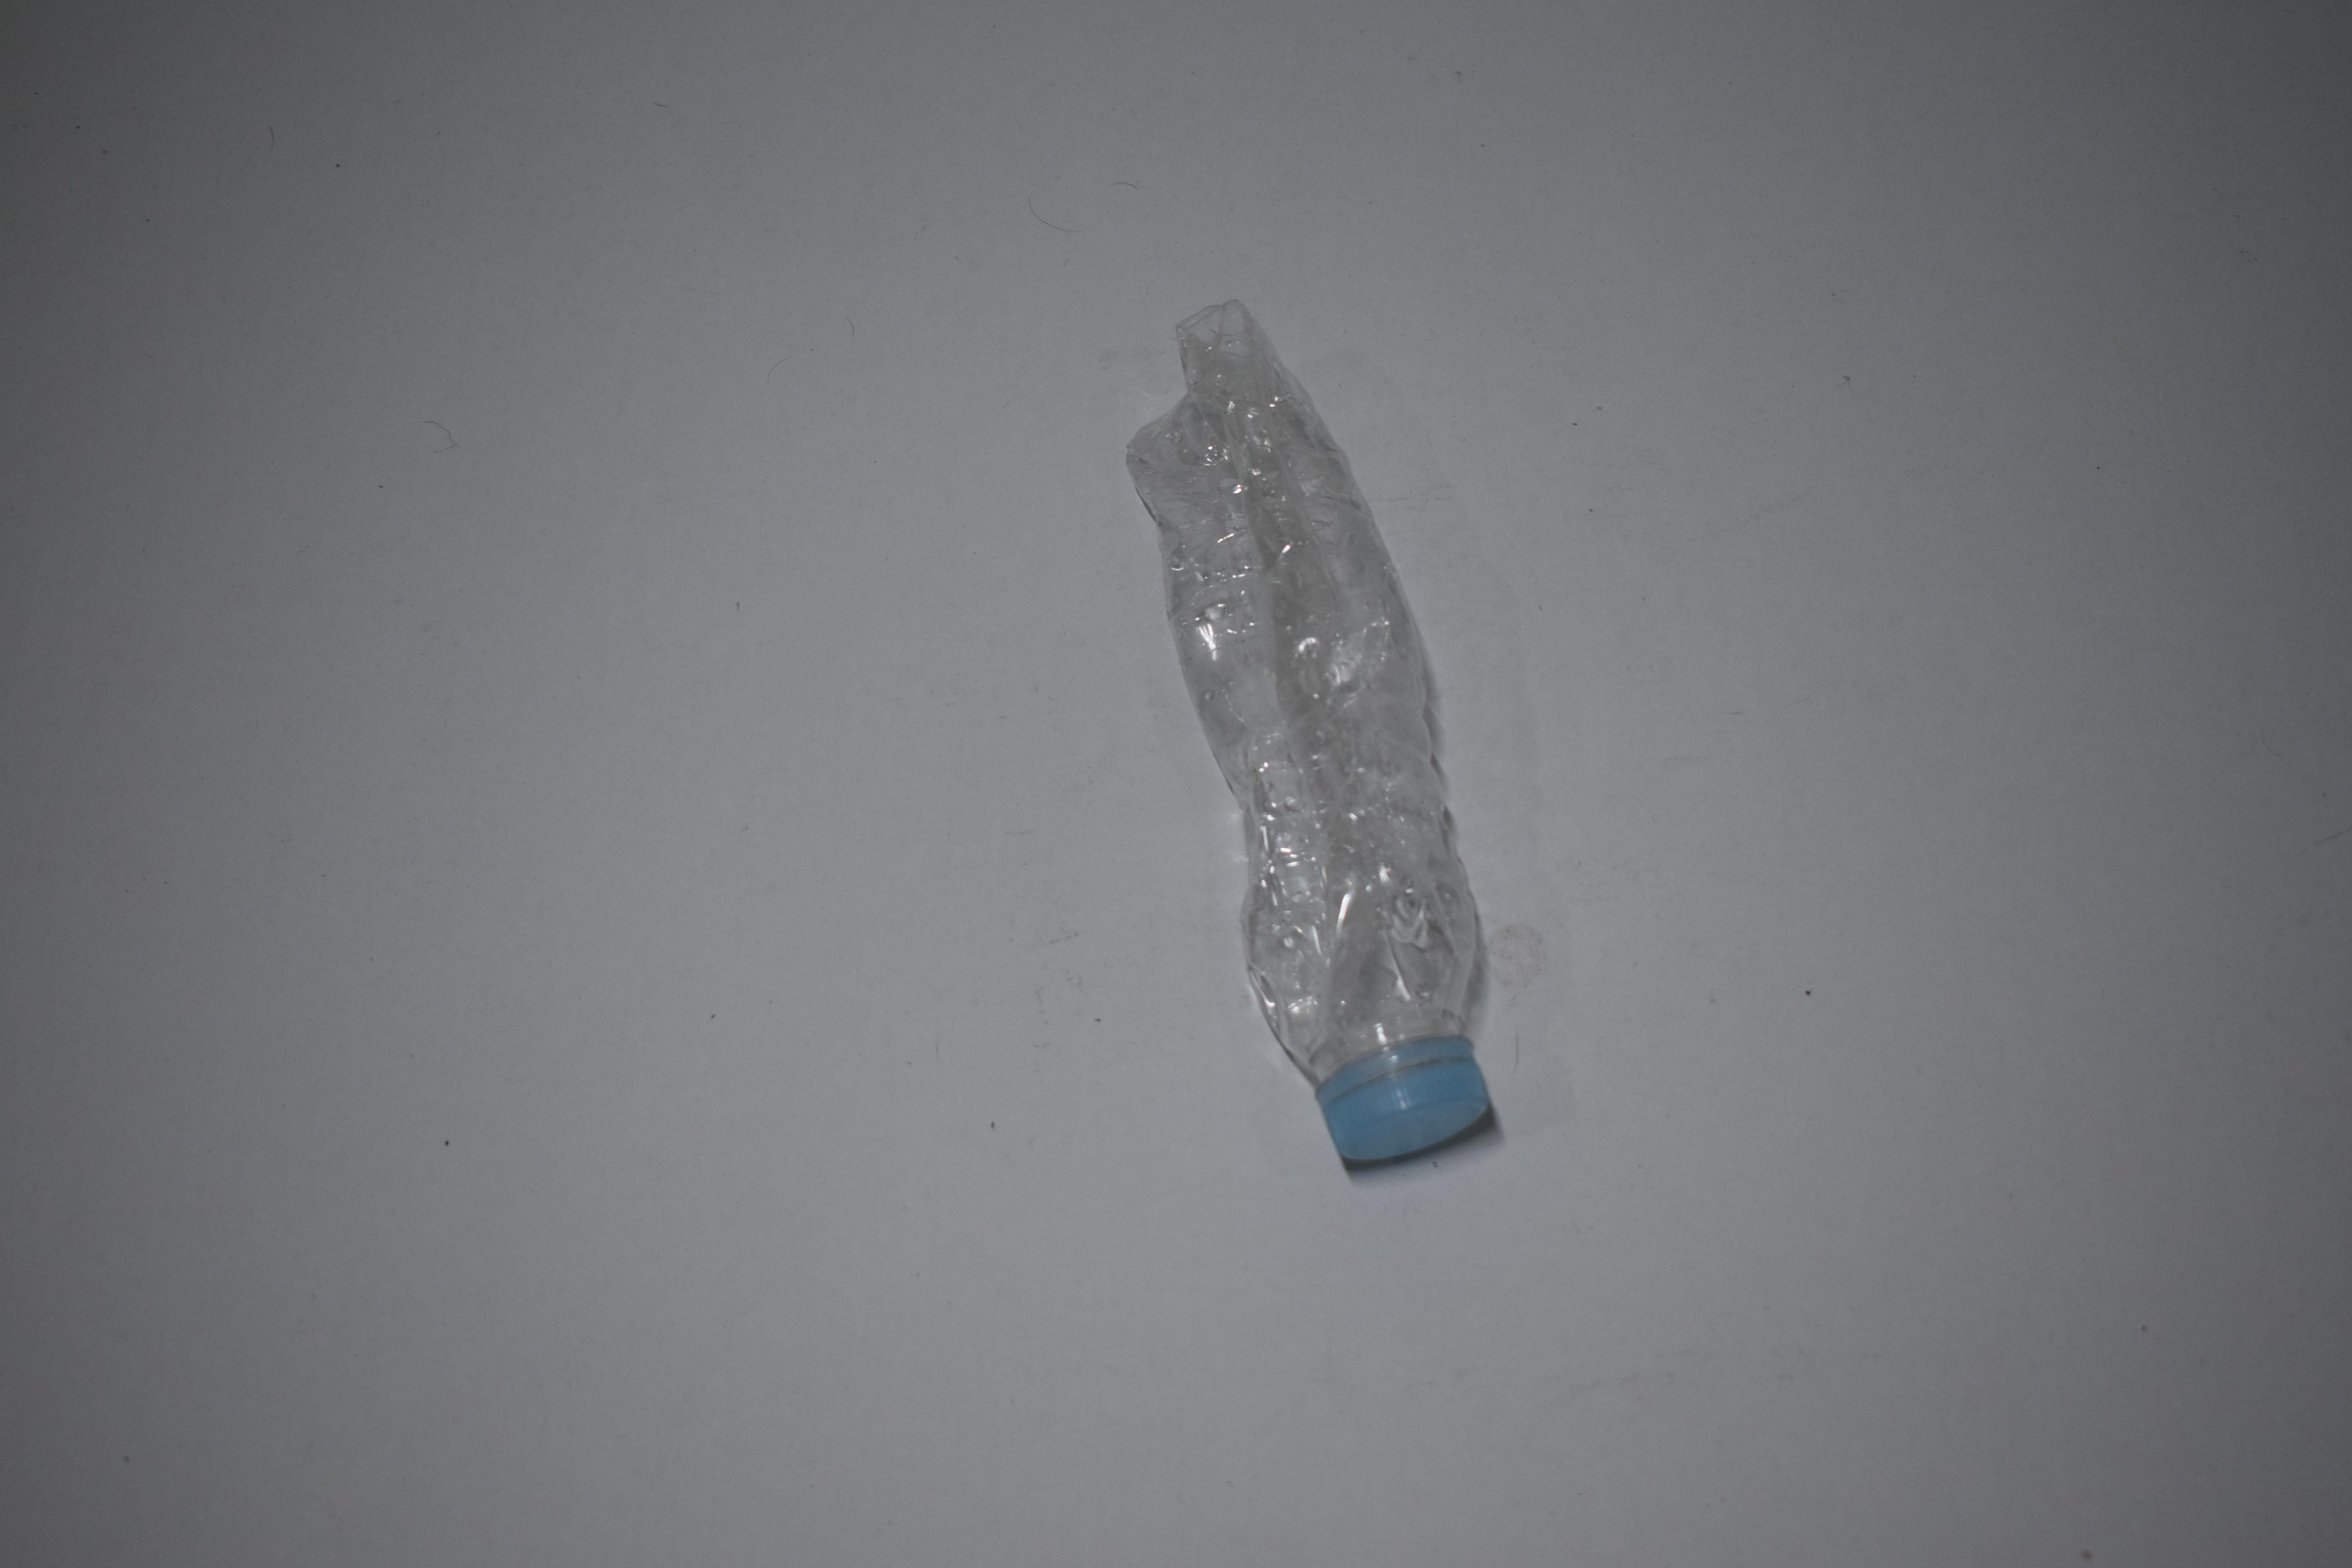bottle: (0, 679, 205, 791)
